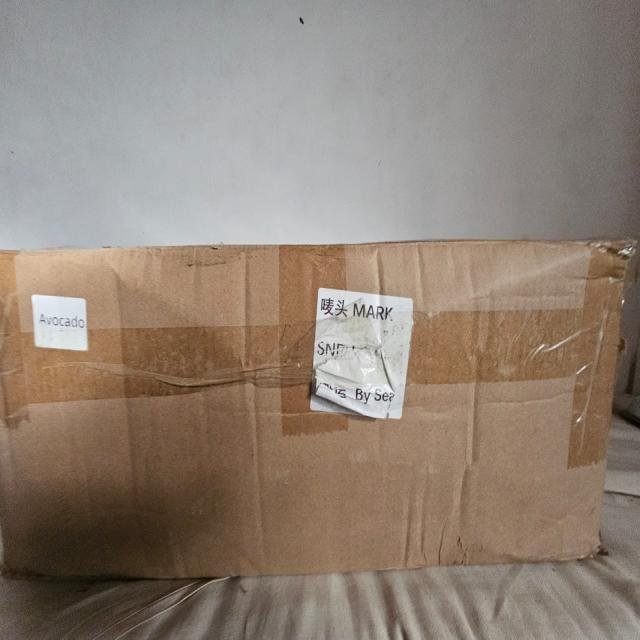carton_box: (0, 232, 640, 598)
export_mark_label: (306, 264, 427, 427)
package_damage: (577, 512, 616, 574)
